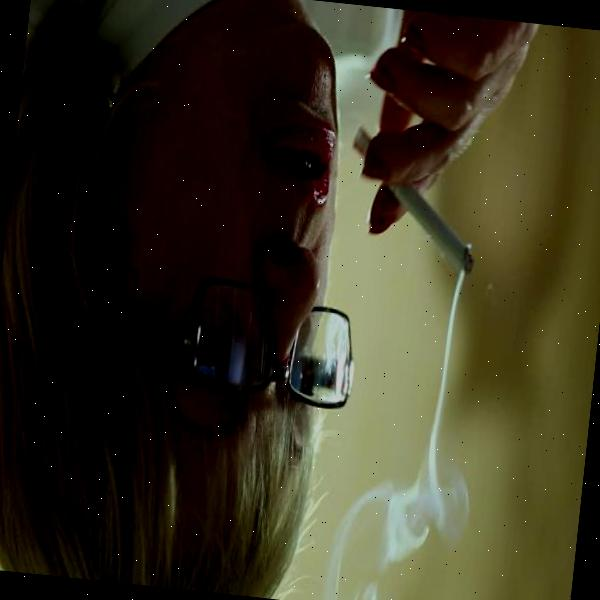smoke: (326, 423, 478, 600)
